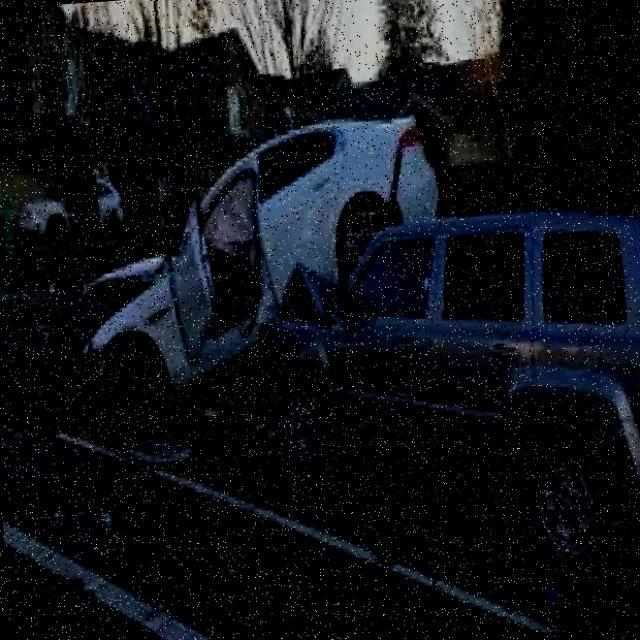accident: (84, 110, 519, 467)
